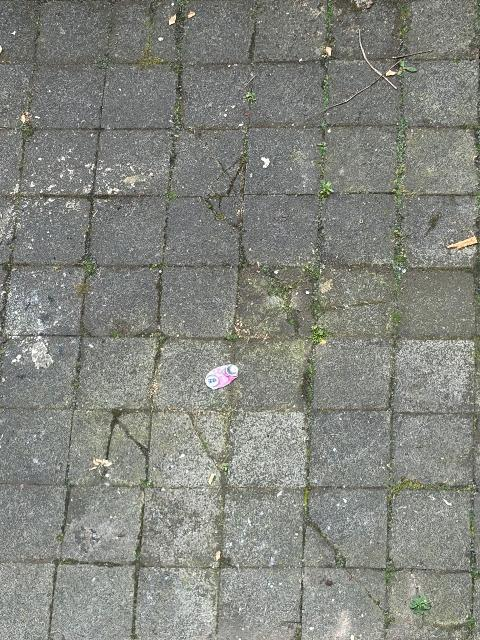can: (206, 364, 239, 390)
